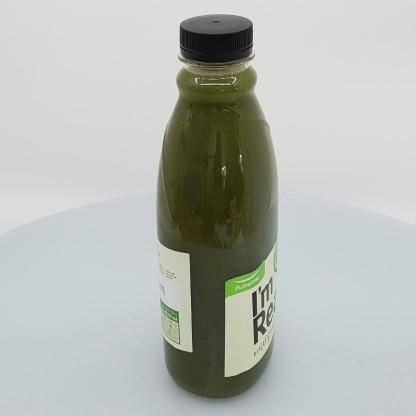-----------700ML: (155, 13, 278, 399)
